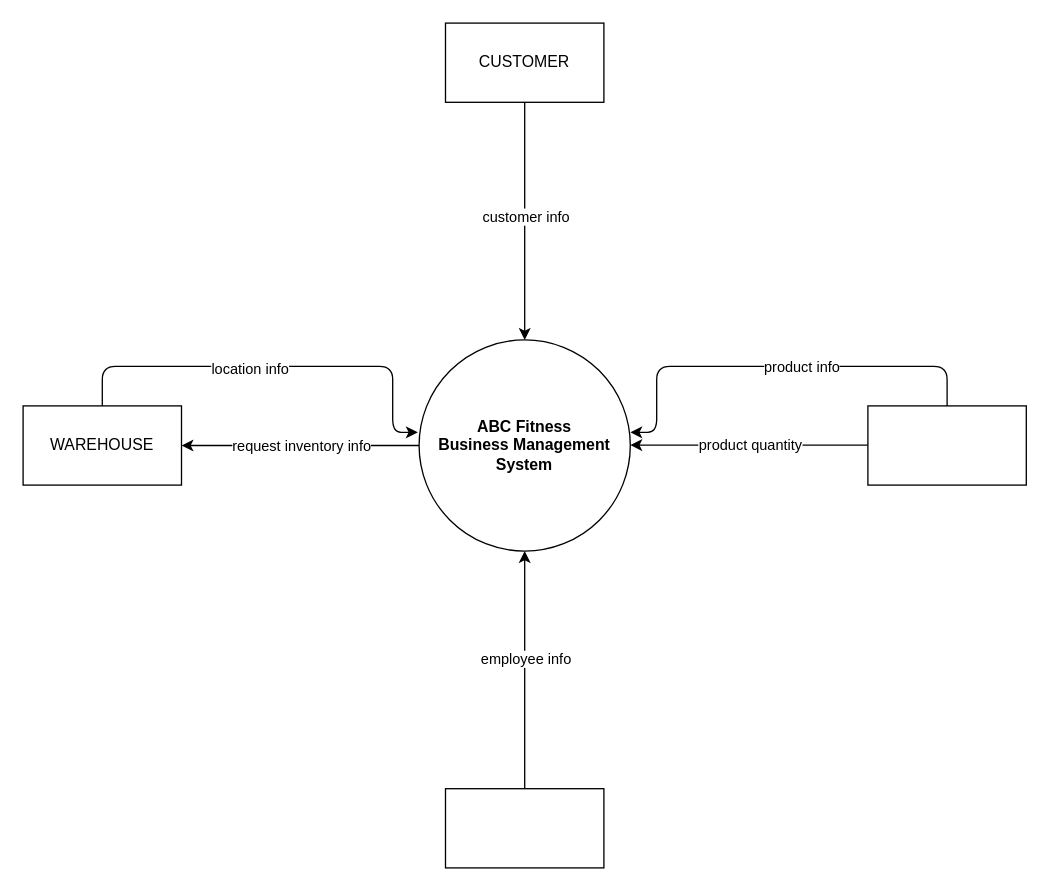
The diagram is 1049 pixels wide and 891 high, and some of its shapes have lost their labels. Here are the shapes that lost their labels. From the top down, the centre of each, then its label:
At (946,445): "PRODUCT".
At (524,827): "EMPLOYEE".
